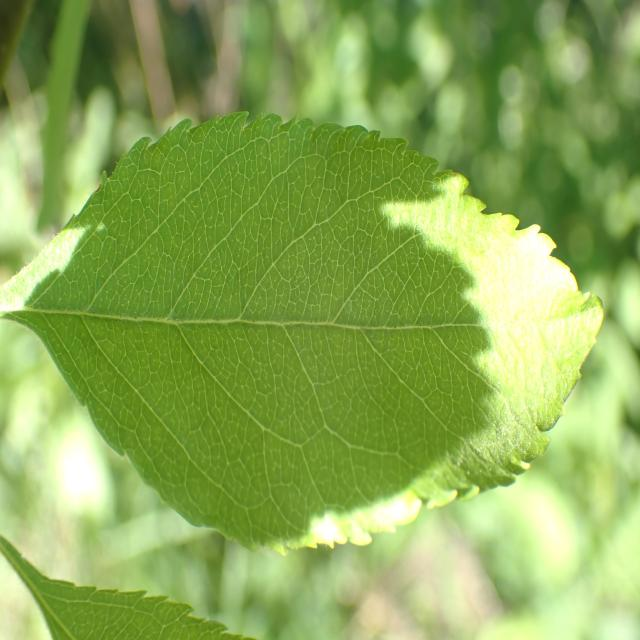healthy: (0, 110, 607, 556)
